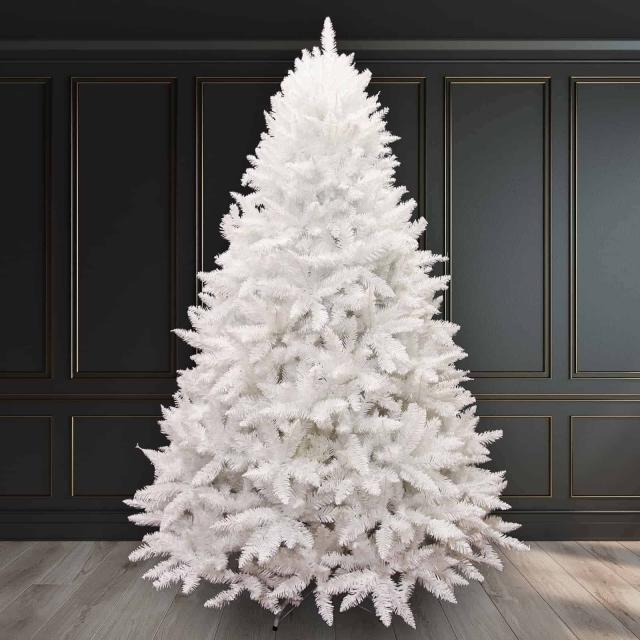Christmas-tree: (60, 4, 544, 636)
